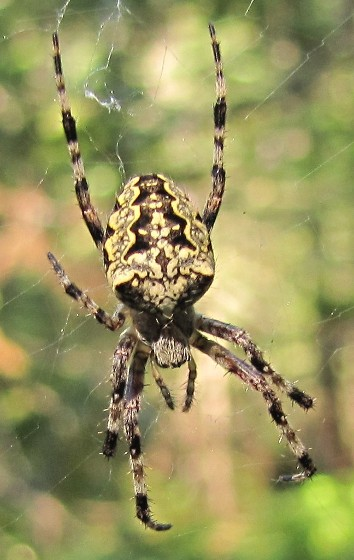spider: (24, 1, 327, 544)
